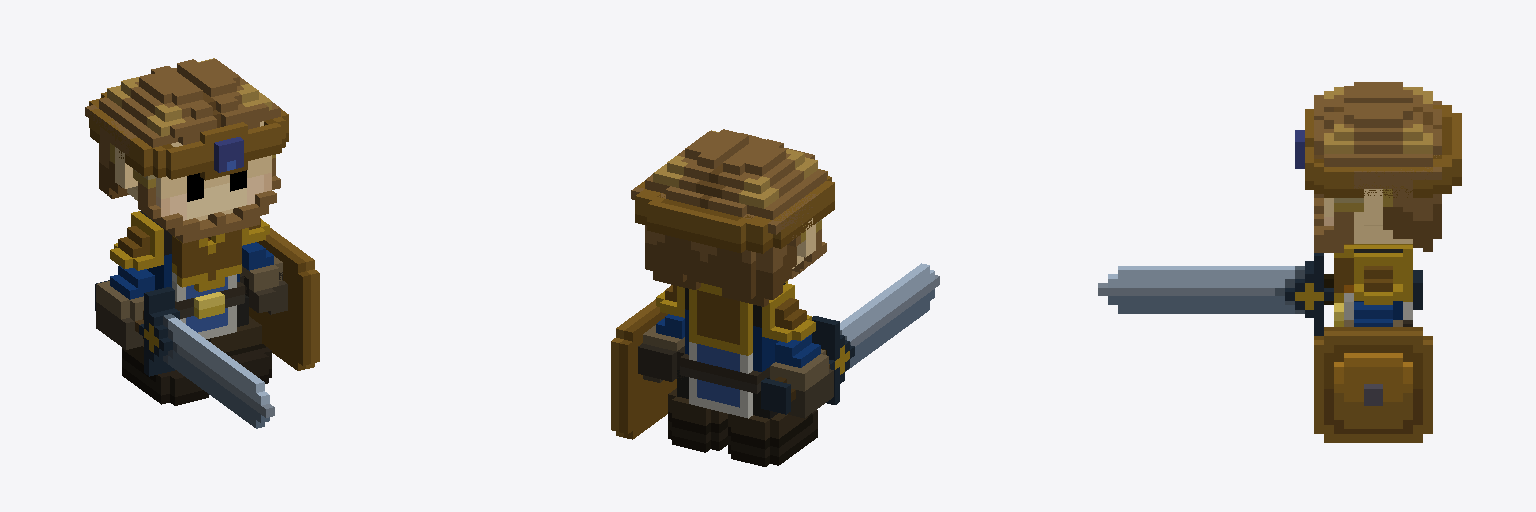
The picture shows the model from 3 angles: view 1: azimuth 30°, elevation 25°; view 2: azimuth 150°, elevation 25°; view 3: azimuth 270°, elevation 25°; orthographic projection.
Parts seen in each view (by area): view 1: head, Compound_1, Matrix_41, hat, shield; view 2: Compound_1, head, Matrix_41, hat, shield; view 3: head, shield, Matrix_41, Compound_1, hat.
Boxes of the visible parts, <box> form: head: <box>85,58,280,243</box>; Compound_1: <box>96,211,287,405</box>; Matrix_41: <box>95,280,274,428</box>; hat: <box>89,92,288,180</box>; shield: <box>240,228,319,370</box>; Compound_1: <box>643,281,833,466</box>; head: <box>631,129,826,306</box>; Matrix_41: <box>761,263,939,414</box>; hat: <box>635,169,834,253</box>; shield: <box>611,299,684,439</box>; head: <box>1314,82,1441,252</box>; shield: <box>1314,327,1432,442</box>; Matrix_41: <box>1098,253,1422,335</box>; Compound_1: <box>1334,244,1412,326</box>; hat: <box>1295,105,1461,197</box>.
Size of the model in its own units: 23 by 33 by 37.
Materials: 1 (1 with a texture image).